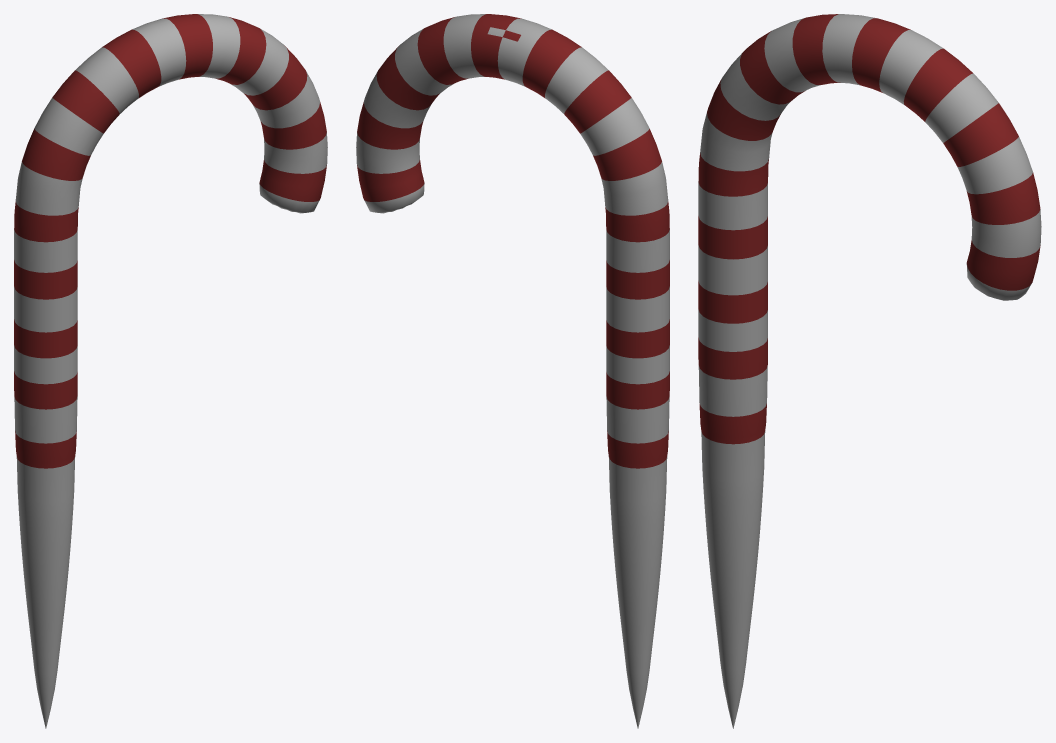
File: CandyCane.fbx
3 renders of one model, left to right at view 1: azimuth 30°, elevation 25°; view 2: azimuth 150°, elevation 25°; view 3: azimuth 330°, elevation 25°, orthographic. The views are drawn at different scales.
Visible parts, largest first — view 1: pCylinder1; view 2: pCylinder1; view 3: pCylinder1.
Boxes of the visible parts, bbox=[...] form: pCylinder1: bbox=[14, 14, 327, 728]; pCylinder1: bbox=[356, 14, 669, 728]; pCylinder1: bbox=[698, 14, 1041, 728].
Bounding box in the file's own units: 0.5351 × 1.14 × 0.0967.
